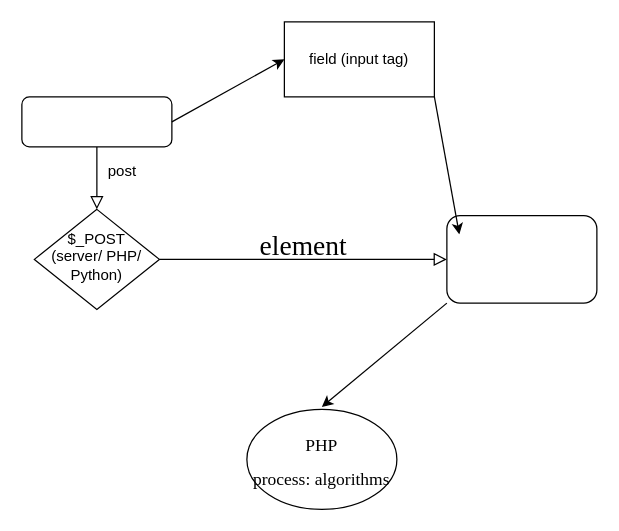
Some shapes in this 619 by 531 pixel diagram are drawn without their labels. The centre of each missing label's shape, as x and y in pixels:
$_POST['name']: the point at 521,258
Form (client/ browser): the point at 96,121
